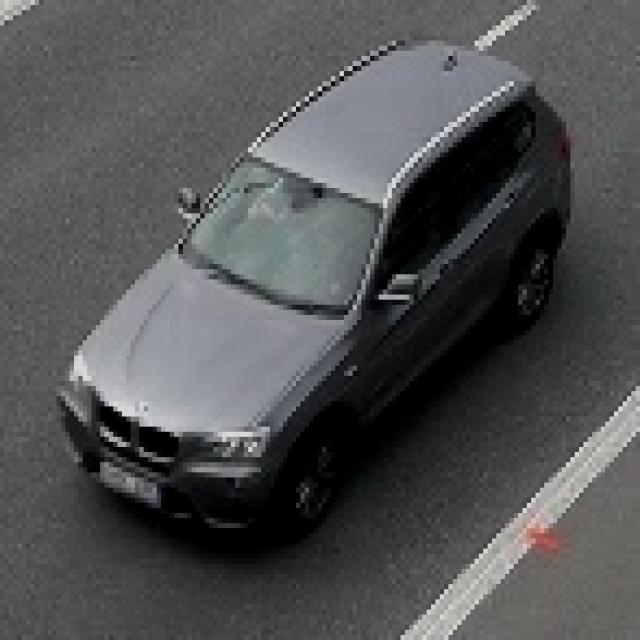SUV: (89, 49, 548, 515)
